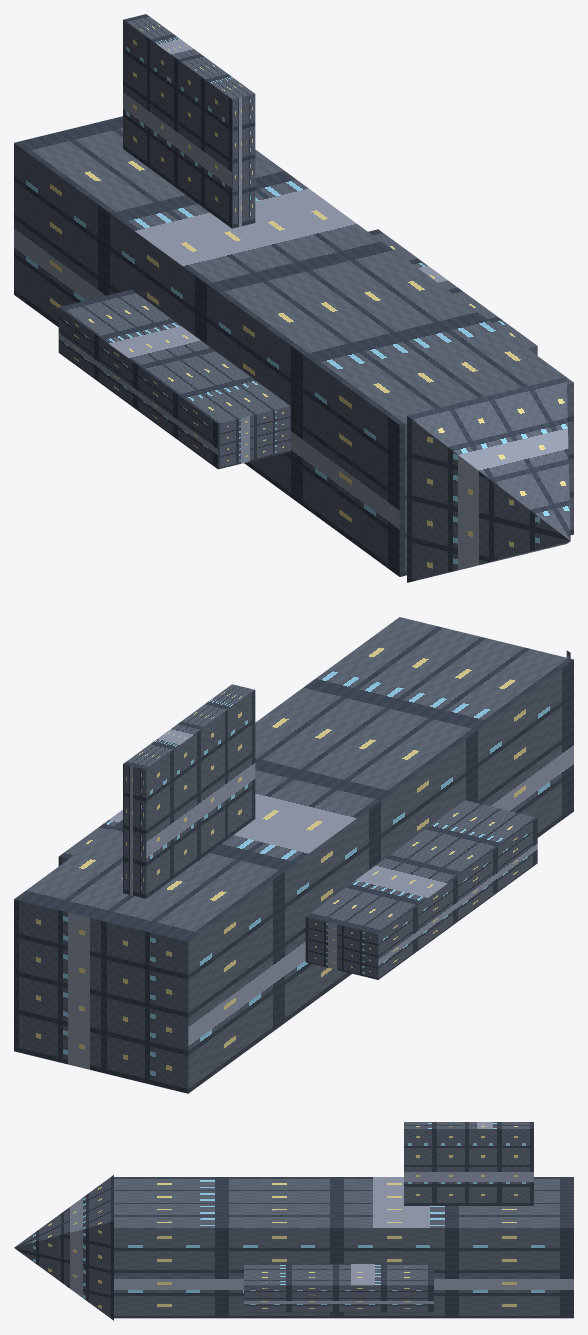
The picture shows the model from 3 angles, top to bottom: view 1: azimuth 30°, elevation 25°; view 2: azimuth 150°, elevation 25°; view 3: azimuth 270°, elevation 25°; orthographic projection. The views are drawn at different scales.
Visible parts, largest first — view 1: hull; view 2: hull; view 3: hull.
Boxes of the visible parts, box(x1,y1,x2,y2) form: hull: box(14, 14, 573, 582); hull: box(14, 617, 573, 1093); hull: box(14, 1122, 573, 1320).
Bounding box in the file's own units: 1.83 × 1.58 × 4.67.
1 material, 1 textured.
